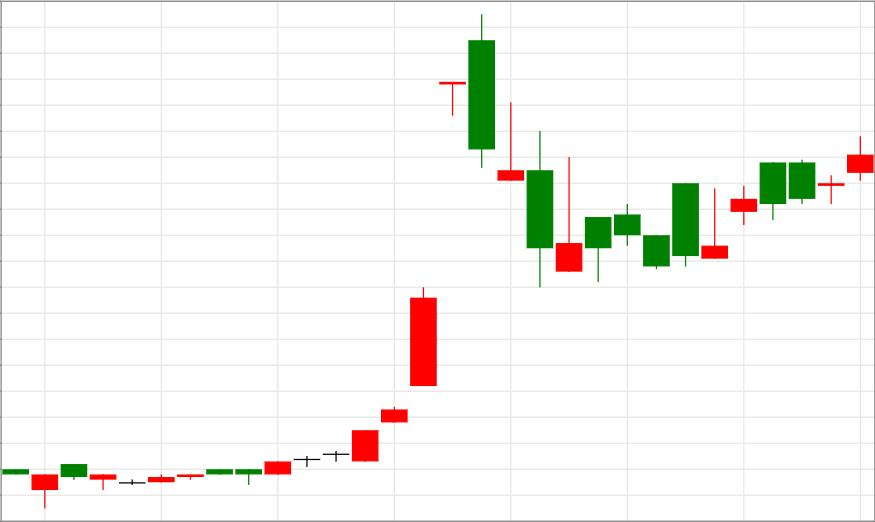bearish_engulfing_fall: (352, 13, 495, 462)
